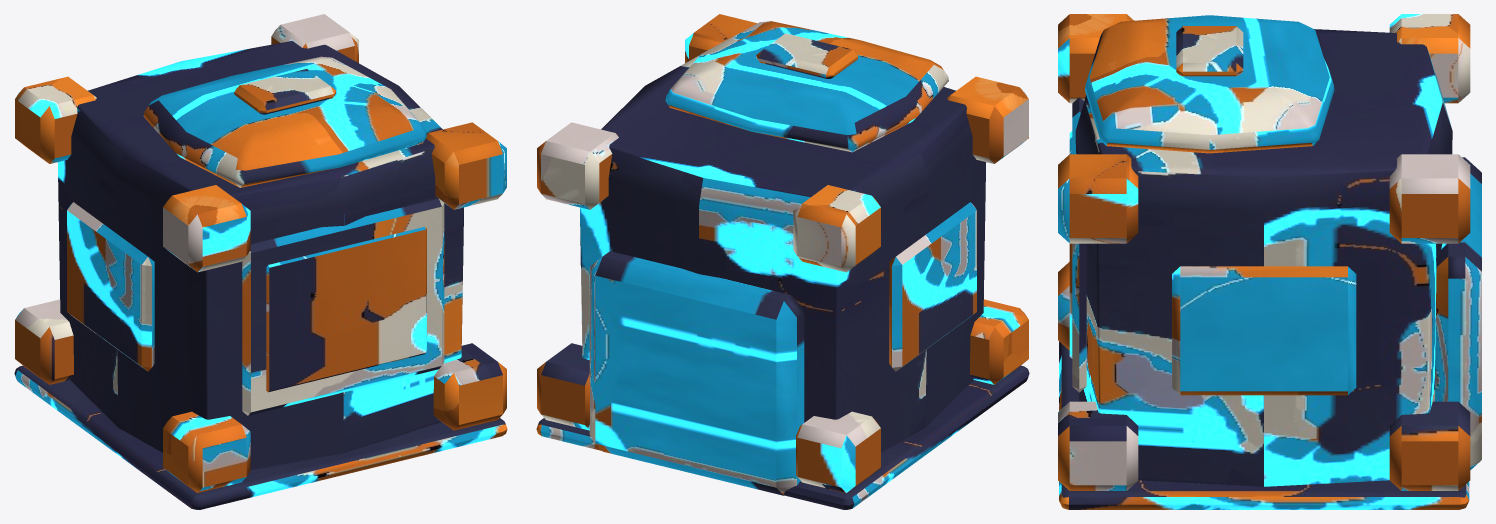
File: R4X_Battery_LOD1.fbx
3 views of the same model, side by side, from view 1: azimuth 30°, elevation 25°; view 2: azimuth 150°, elevation 25°; view 3: azimuth 270°, elevation 25° (orthographic). The views are drawn at different scales.
Visible parts, largest first — view 1: R4X_Battery_LOD1; view 2: R4X_Battery_LOD1; view 3: R4X_Battery_LOD1.
Part boxes in pixels (left/top/right/bottom): R4X_Battery_LOD1: left=14, top=14, right=507, bottom=509; R4X_Battery_LOD1: left=536, top=14, right=1029, bottom=509; R4X_Battery_LOD1: left=1058, top=14, right=1481, bottom=509.
Size of the model in its own units: 0.492 by 0.504 by 0.506.
